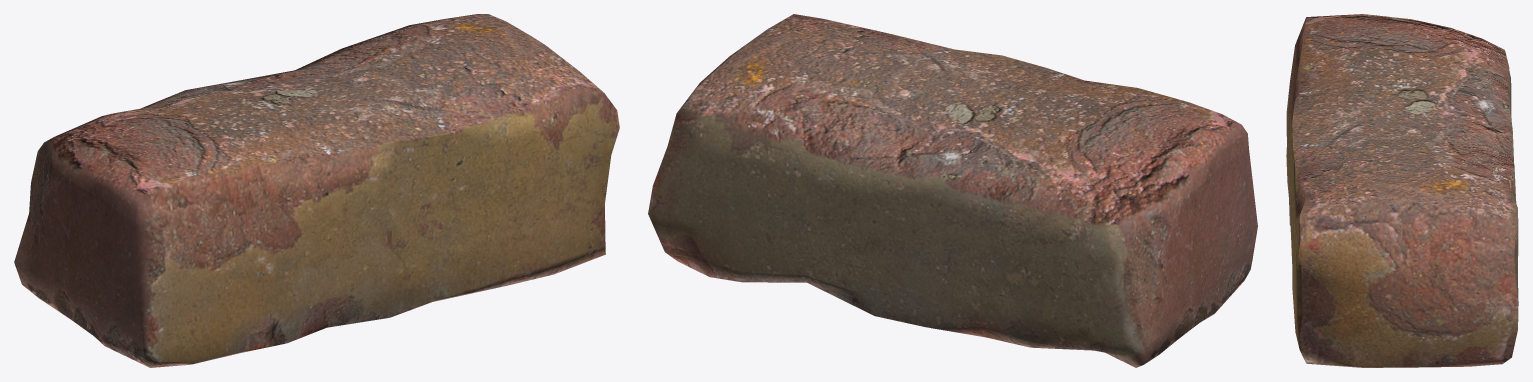
Rendered from SM_Brick_01_02.fbx.
The picture shows the model from 3 angles, left to right: view 1: azimuth 30°, elevation 25°; view 2: azimuth 150°, elevation 25°; view 3: azimuth 270°, elevation 25°; orthographic projection. The views are drawn at different scales.
Visible parts, largest first — view 1: sm_Brick_01_02_LOD0; view 2: sm_Brick_01_02_LOD0; view 3: sm_Brick_01_02_LOD0.
Boxes of the visible parts, x1=… form: sm_Brick_01_02_LOD0: x1=14, y1=14, x2=619, y2=367; sm_Brick_01_02_LOD0: x1=648, y1=14, x2=1257, y2=367; sm_Brick_01_02_LOD0: x1=1286, y1=14, x2=1518, y2=367.
Bounding box in the file's own units: 11.23 × 24.8 × 8.86.
